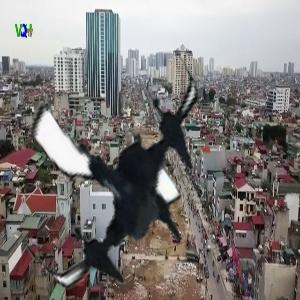drone: (3, 61, 239, 297)
